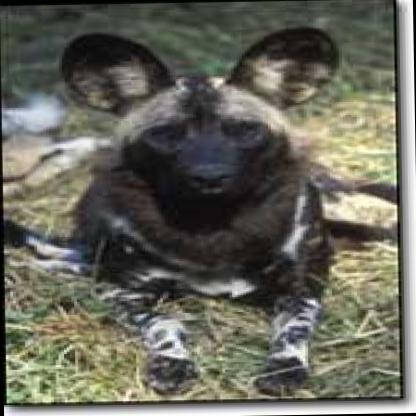African_hunting_dog: (0, 20, 344, 393)
